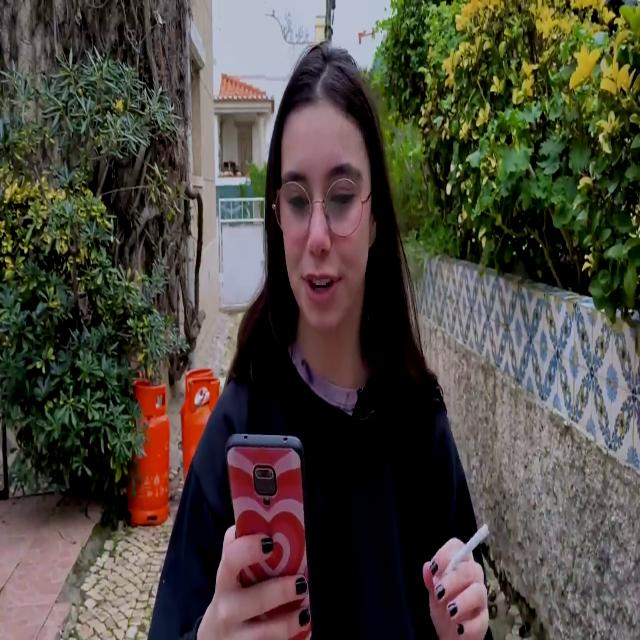Smooking: (437, 508, 496, 586)
